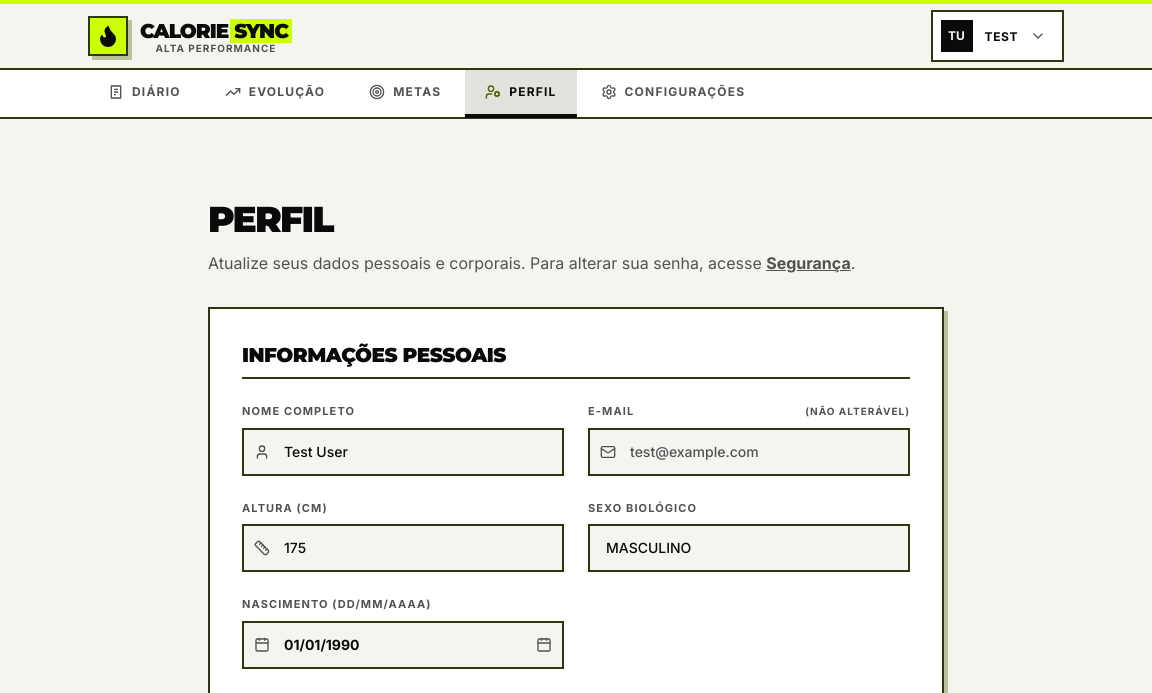
Test case: Navegação por finalidade › oferece configurações específicas no menu da conta e fecha com Escape
This screenshot has width=1152, height=693.
Check: the heading "PERFIL" is shown, box [208,197,333,241]
Check: the number field labelled "ALTURA (CM)" is shown, box [242,524,564,572]
Click the button with aria-label "Menu da conta" at (997, 36), box [930,10,1064,62]
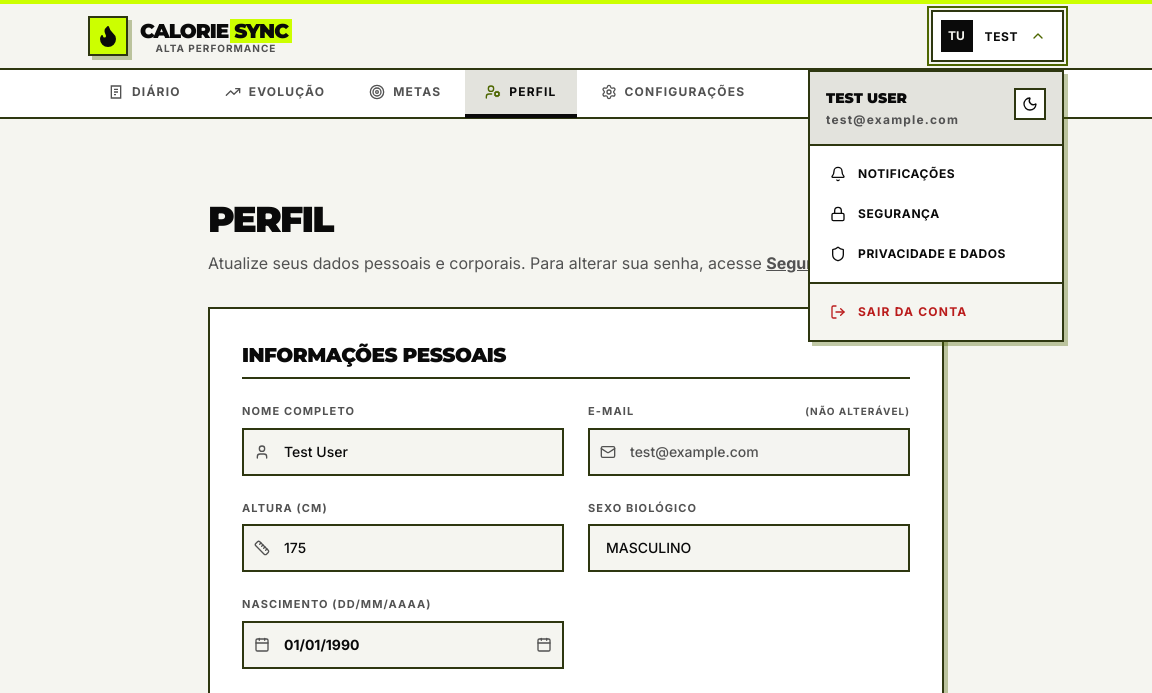
Press Escape
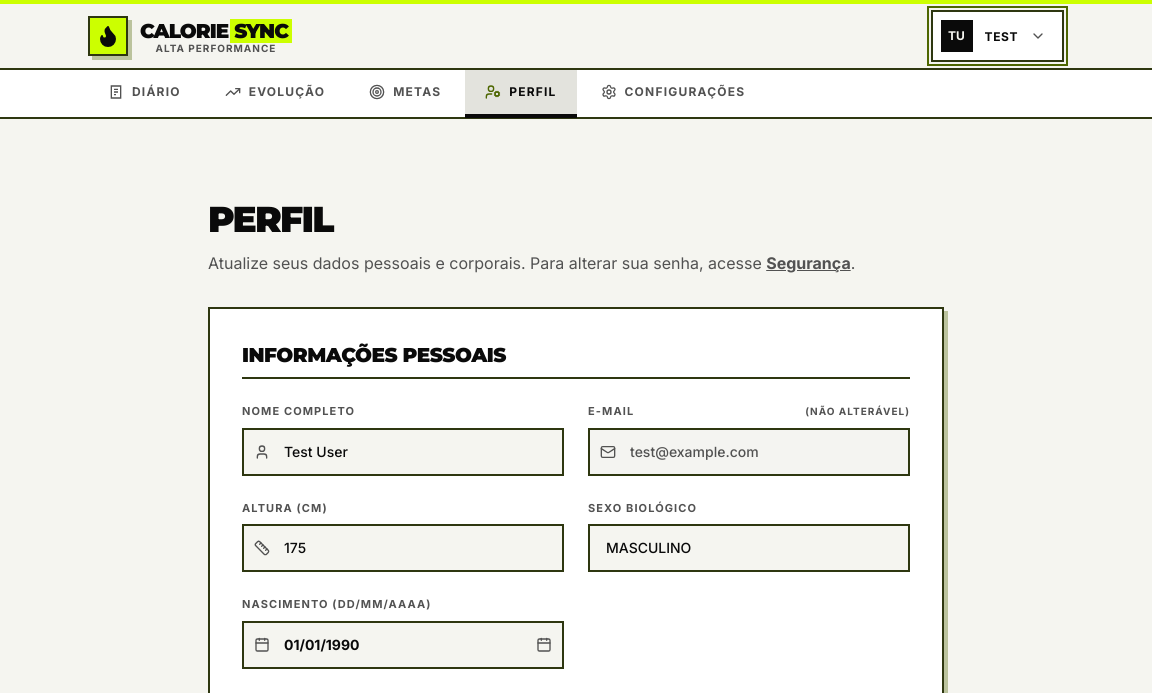
Check: the button with aria-label "Menu da conta" is collapsed
Click the button with aria-label "Menu da conta" at (997, 36), box [930,10,1064,62]
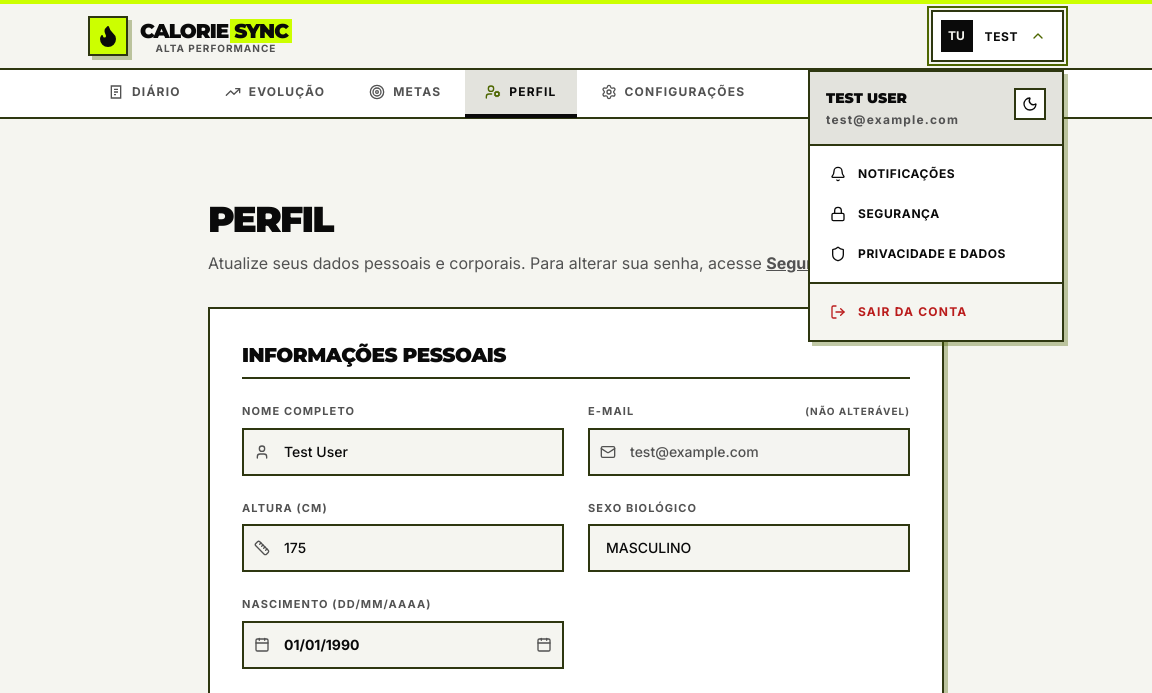
Click the link "Segurança" at (885, 214), box [830,206,940,222]
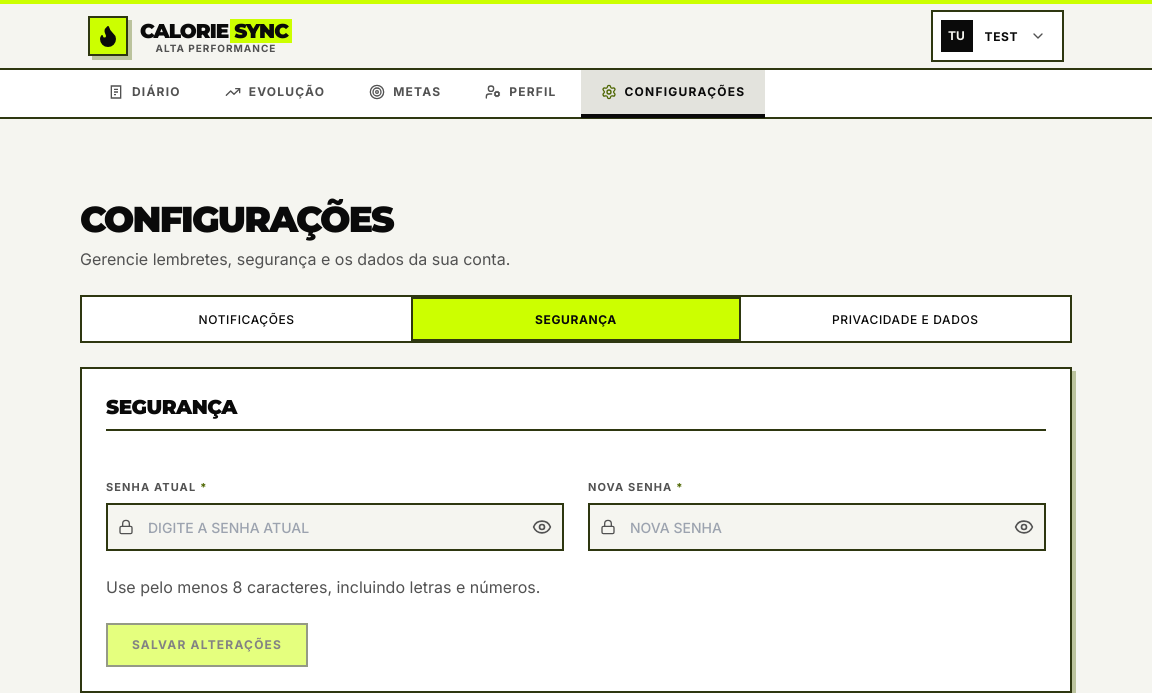
Check: the heading "SEGURANÇA" is shown, box [106,393,1046,431]
Check: the button with aria-label "Menu da conta" is collapsed, box [930,10,1064,62]
